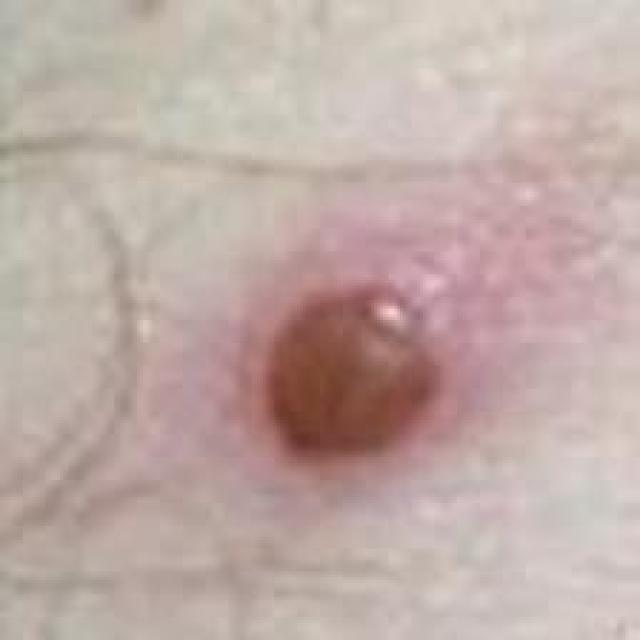monkeypox: (146, 137, 515, 565)
